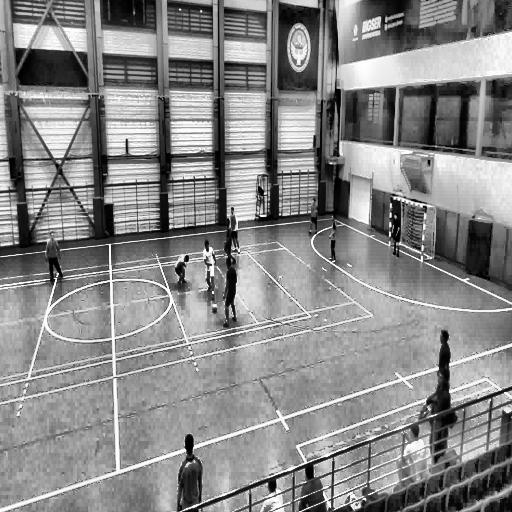ball: (212, 305, 217, 314)
player: (178, 434, 204, 512), (223, 254, 237, 326), (44, 231, 64, 280), (203, 240, 217, 299), (438, 332, 451, 382), (224, 218, 237, 266), (229, 206, 240, 253), (175, 253, 189, 287), (392, 212, 401, 258), (328, 216, 337, 262), (309, 198, 318, 236)
